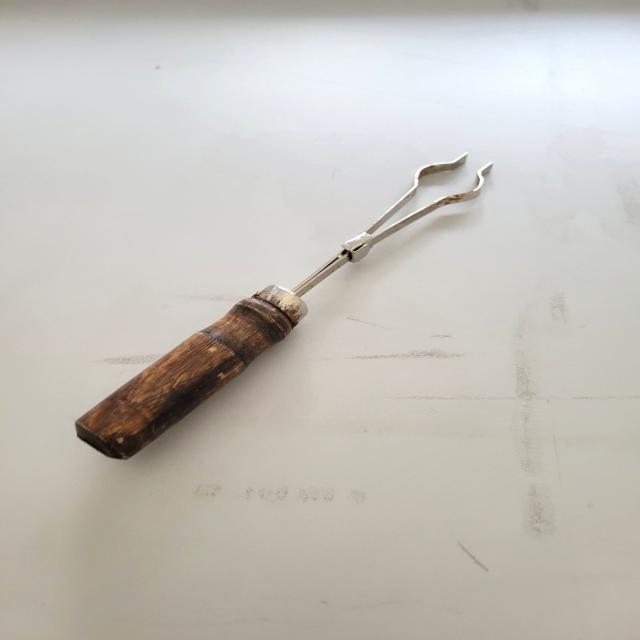TestTube_Holder: (64, 145, 514, 480)
